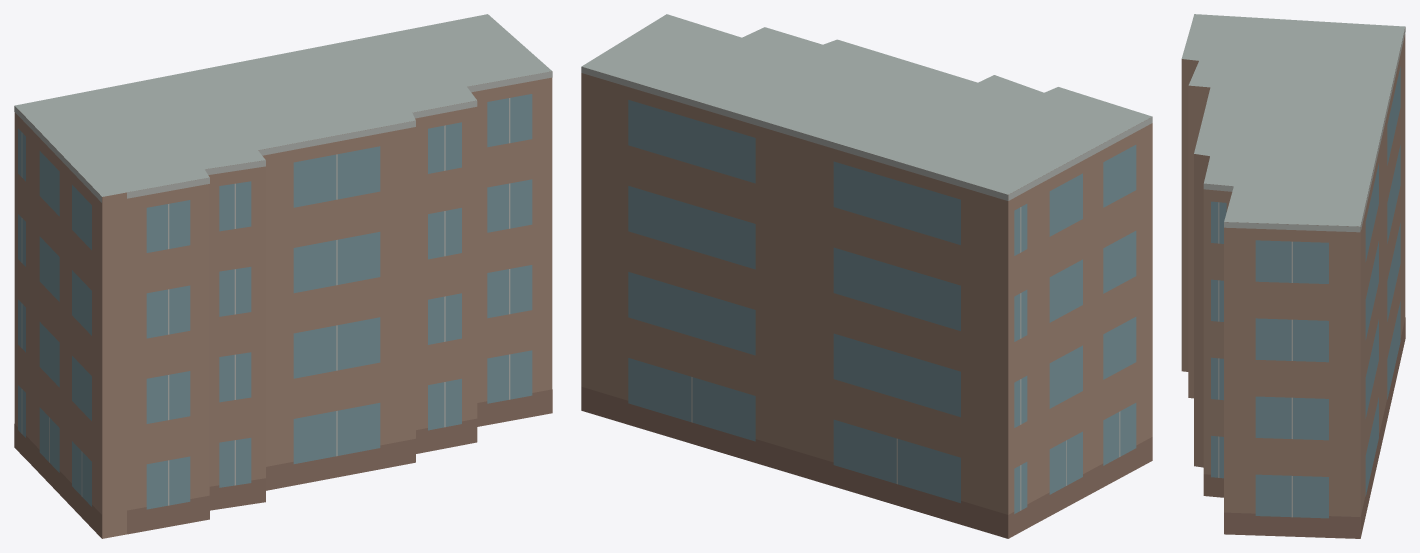
File: survey-upis-32705404.glb
The picture shows the model from 3 angles, left to right: view 1: azimuth 30°, elevation 25°; view 2: azimuth 150°, elevation 25°; view 3: azimuth 270°, elevation 25°; orthographic projection. The views are drawn at different scales.
Visible parts, largest first — view 1: survey-upis-32705404.tmp; view 2: survey-upis-32705404.tmp; view 3: survey-upis-32705404.tmp.
Part boxes in pixels (<box>): survey-upis-32705404.tmp: <box>14,14,552,538</box>; survey-upis-32705404.tmp: <box>581,14,1152,538</box>; survey-upis-32705404.tmp: <box>1181,14,1405,538</box>.
Size of the model in its own units: 19.27 by 13.2 by 8.58.
